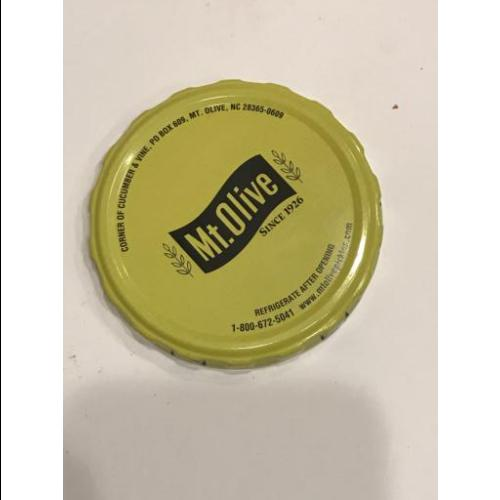metal: (87, 78, 381, 372)
